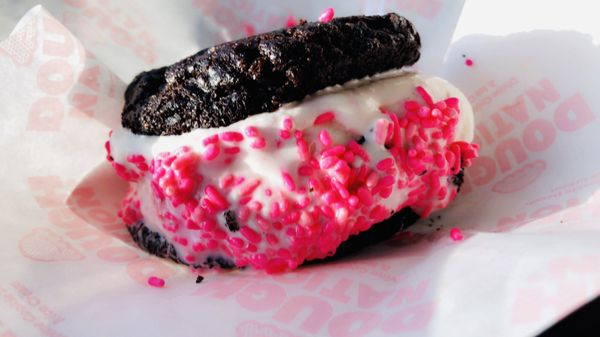curry: (1, 0, 553, 332)
salad: (108, 69, 480, 275)
